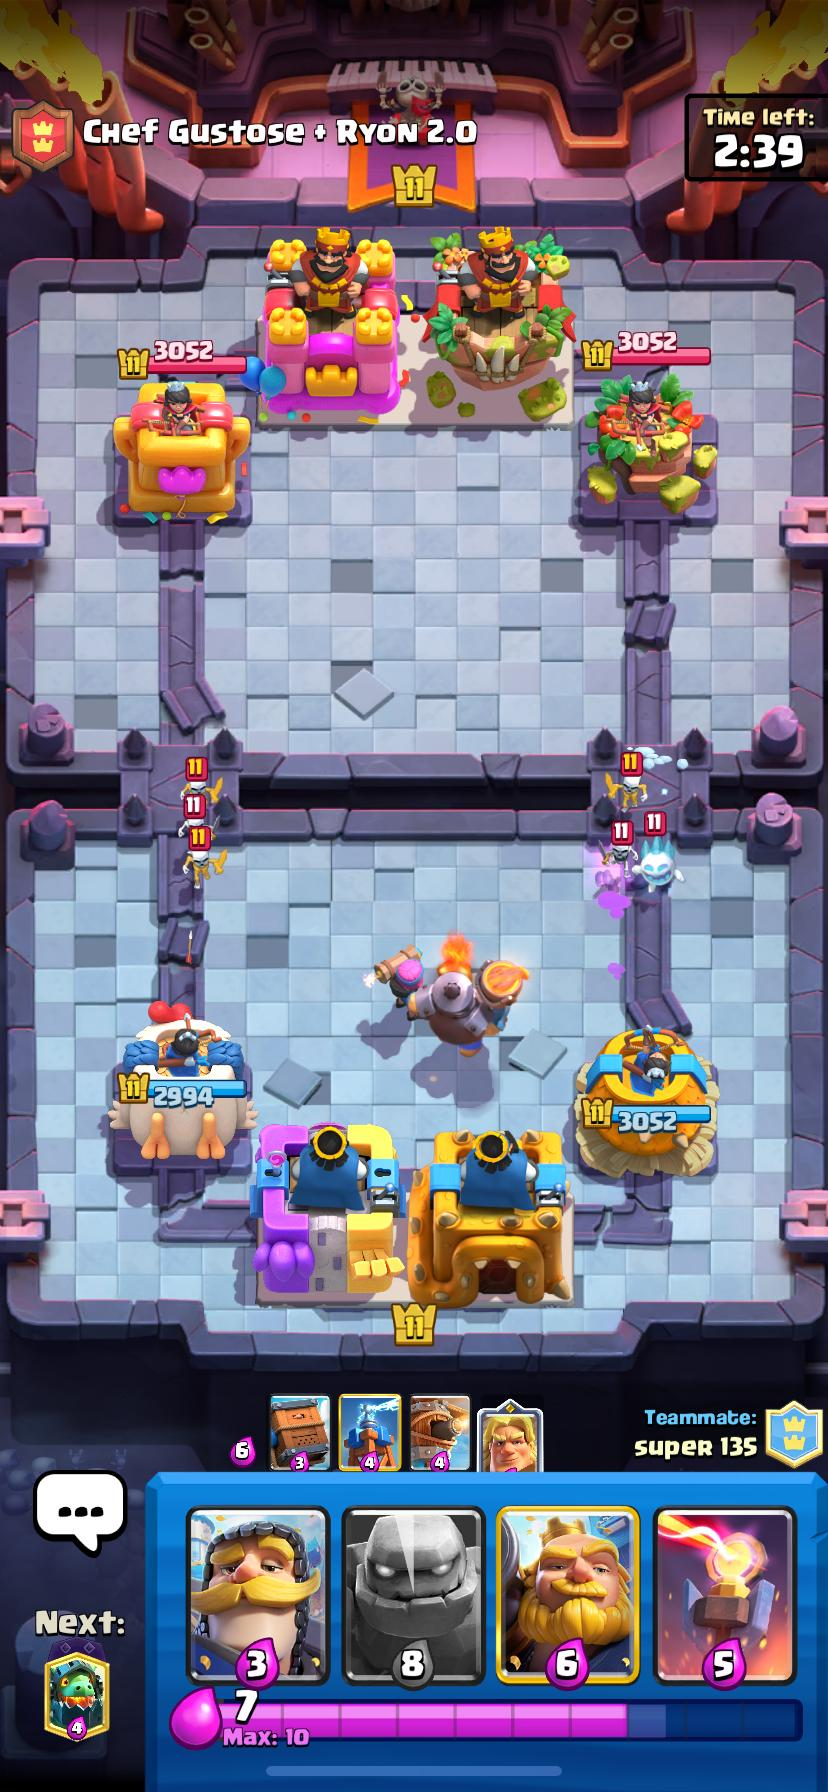EIceSpirit: (631, 810, 683, 891)
EKingTower: (422, 226, 574, 422), (260, 227, 400, 423)
ELarry: (184, 822, 221, 885), (615, 747, 646, 811), (607, 816, 636, 874), (184, 755, 216, 795), (184, 794, 210, 825)
EnemyPrincessTower: (580, 371, 715, 515), (116, 383, 250, 521)
OFirecrack: (376, 945, 423, 1007)
OFurnace: (415, 934, 512, 1054)
OwnKingTower: (253, 1123, 403, 1302), (429, 1130, 573, 1305)
OwnPrincessTower: (114, 1003, 256, 1159), (576, 1024, 718, 1177)
